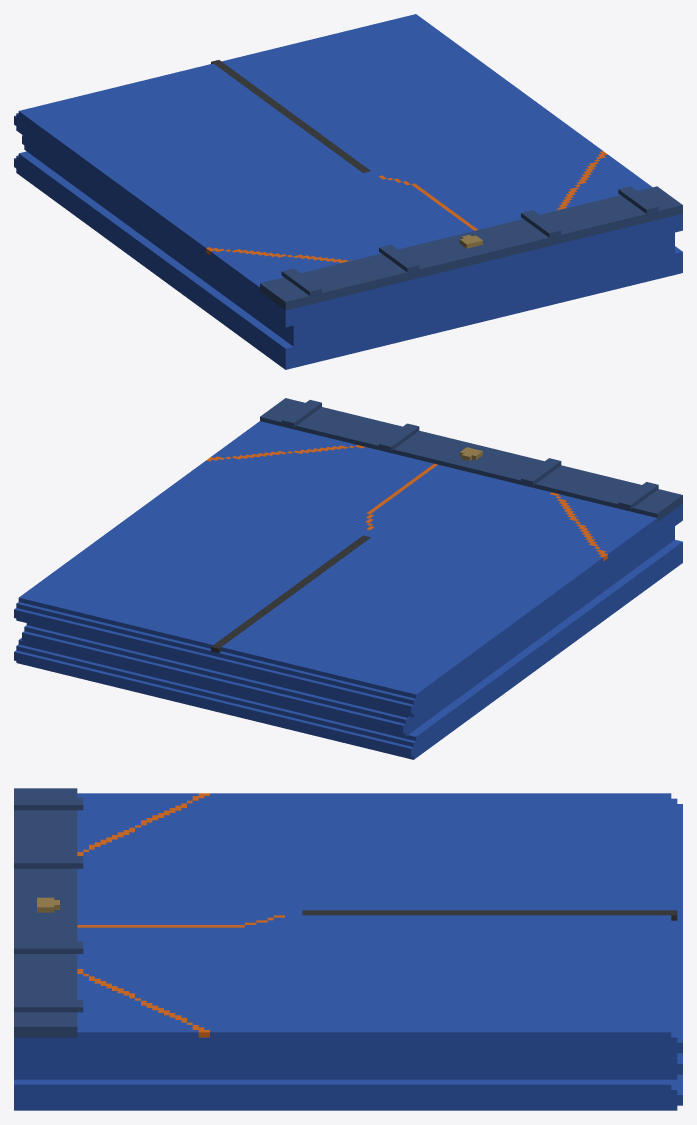
The model's file is jeans_vintage.glb.
The picture shows the model from 3 angles, top to bottom: view 1: azimuth 30°, elevation 25°; view 2: azimuth 150°, elevation 25°; view 3: azimuth 270°, elevation 25°; orthographic projection. The views are drawn at different scales.
Parts seen in each view (by area): view 1: jeans_vintage:compound; view 2: jeans_vintage:compound; view 3: jeans_vintage:compound.
Boxes of the visible parts, bbox=[...] form: jeans_vintage:compound: bbox=[14, 14, 682, 369]; jeans_vintage:compound: bbox=[14, 398, 682, 759]; jeans_vintage:compound: bbox=[14, 788, 682, 1110].
Size of the model in its own units: 0.392 by 0.068 by 0.464.
